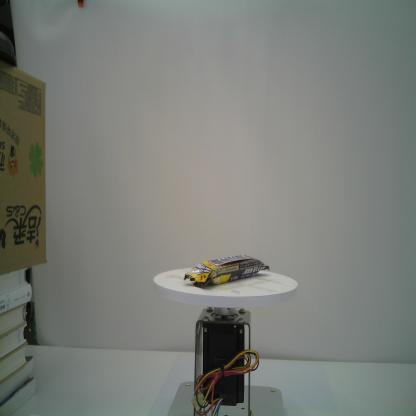Chocolate: (183, 254, 270, 288)
